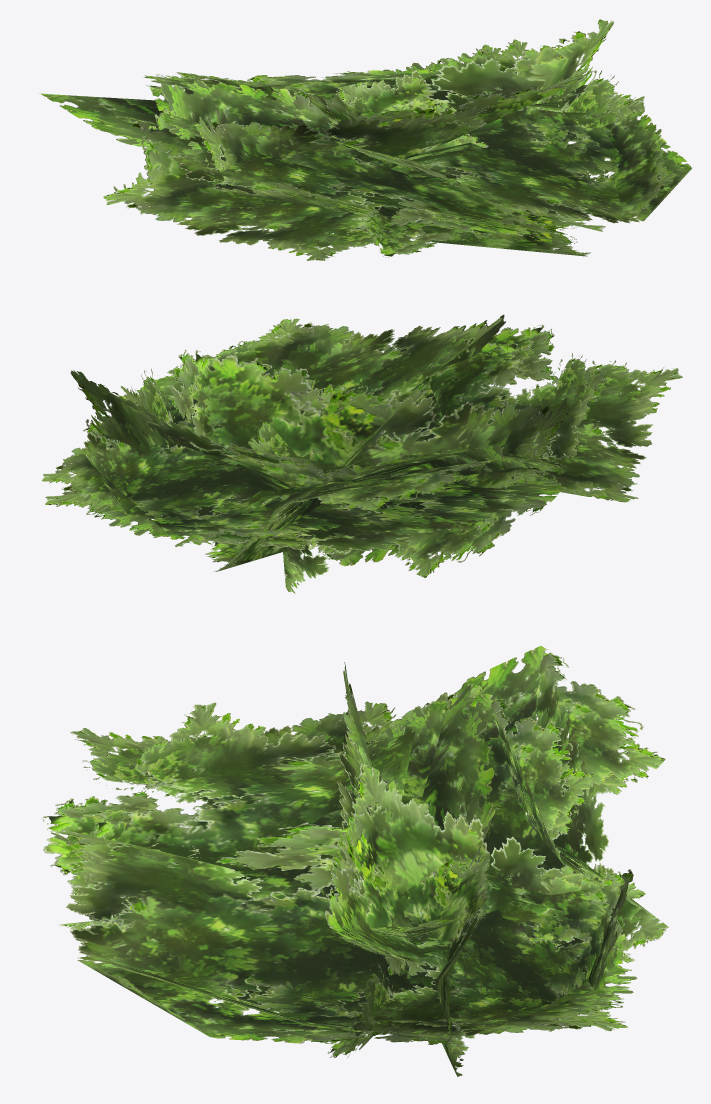
File: bh_south_crown.DAE
3 views of the same model, one above another, from view 1: azimuth 30°, elevation 25°; view 2: azimuth 150°, elevation 25°; view 3: azimuth 270°, elevation 25° (orthographic). The views are drawn at different scales.
Visible parts, largest first — view 1: Plane01-Pivot; view 2: Plane01-Pivot; view 3: Plane01-Pivot.
Part boxes in pixels (box(x1,y1,x2,y2)): Plane01-Pivot: box(40, 19, 691, 260); Plane01-Pivot: box(42, 314, 682, 593); Plane01-Pivot: box(41, 646, 668, 1076).
Bounding box in the file's own units: 614 × 194 × 559.
